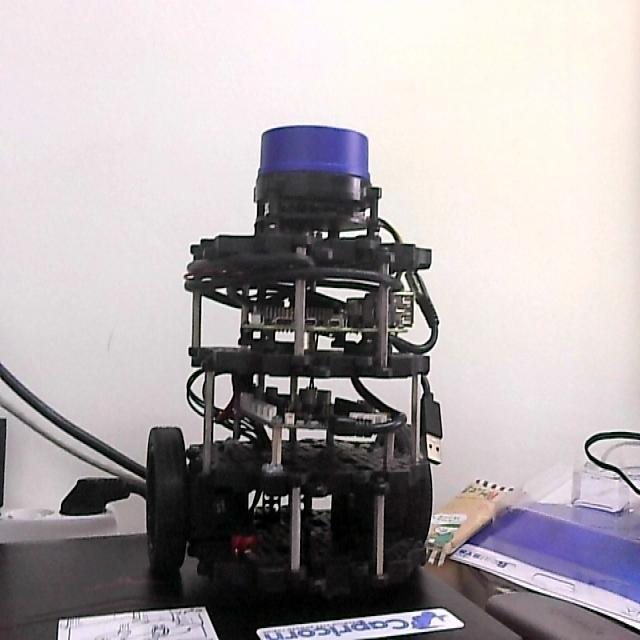turtle: (144, 122, 444, 604)
